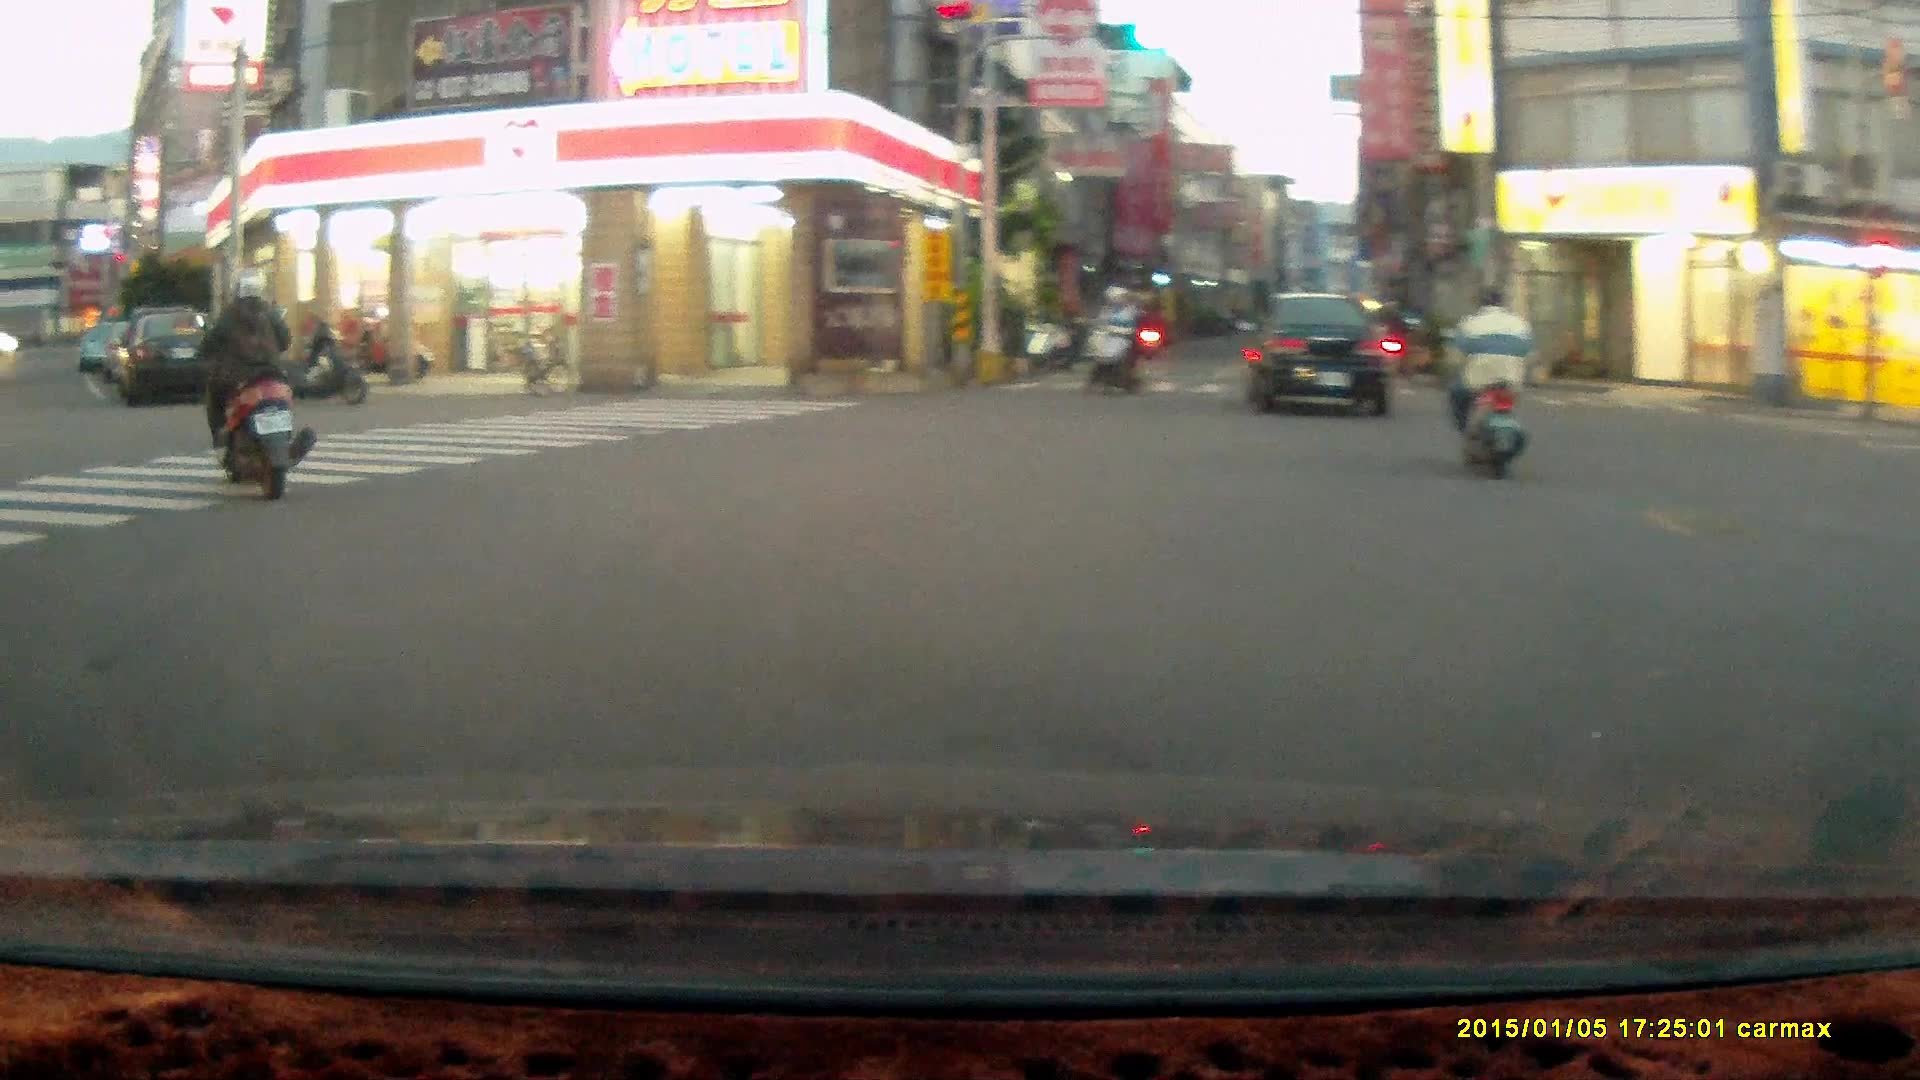rider: (195, 269, 318, 499), (1446, 282, 1539, 481), (1083, 280, 1144, 393)
vehicle: (1250, 292, 1403, 418), (122, 309, 247, 407)
